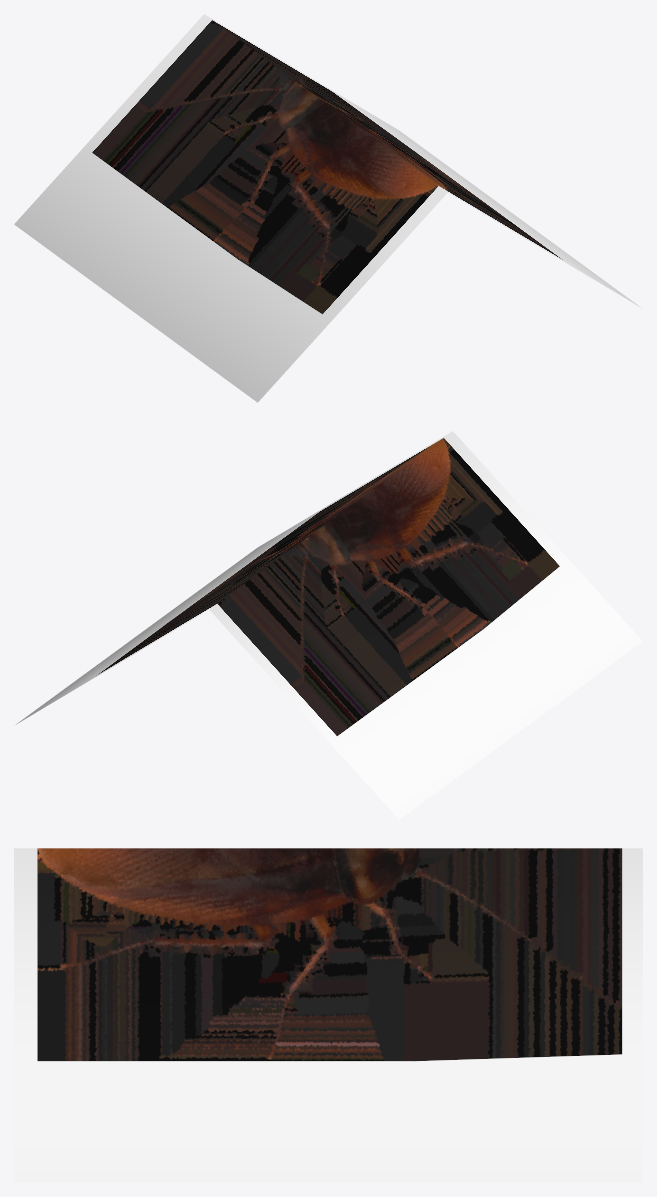
The model's file is cockroach.fbx.
3 renders of one model, top to bottom at view 1: azimuth 30°, elevation 25°; view 2: azimuth 150°, elevation 25°; view 3: azimuth 270°, elevation 25°, orthographic. The views are drawn at different scales.
Parts seen in each view (by area): view 1: cockraoch; view 2: cockraoch; view 3: cockraoch.
Part boxes in pixels (bbox=[...]): cockraoch: bbox=[14, 14, 640, 402]; cockraoch: bbox=[16, 431, 642, 819]; cockraoch: bbox=[14, 848, 642, 1182].
Size of the model in its own units: 15.48 by 6.29 by 16.96.
1 material, 1 textured.
